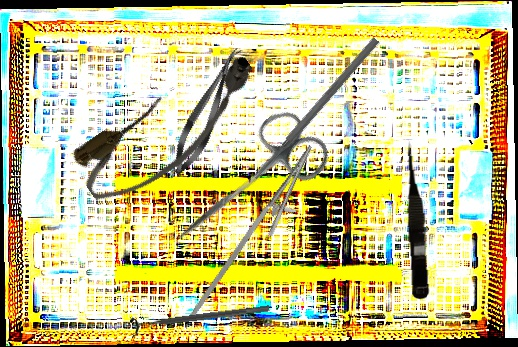Cannula: (66, 44, 275, 214)
Fixation Ring: (129, 297, 271, 339)
Iris Scissors: (155, 100, 337, 271)
Micro Scissor: (164, 41, 250, 181), (401, 139, 433, 301)
Needle Holder: (186, 132, 328, 341)
Pusher: (251, 35, 381, 183)
